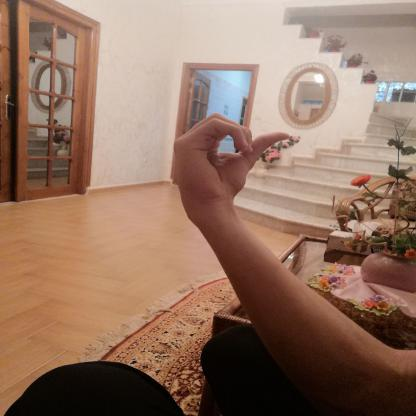WAW: (158, 108, 300, 218)
